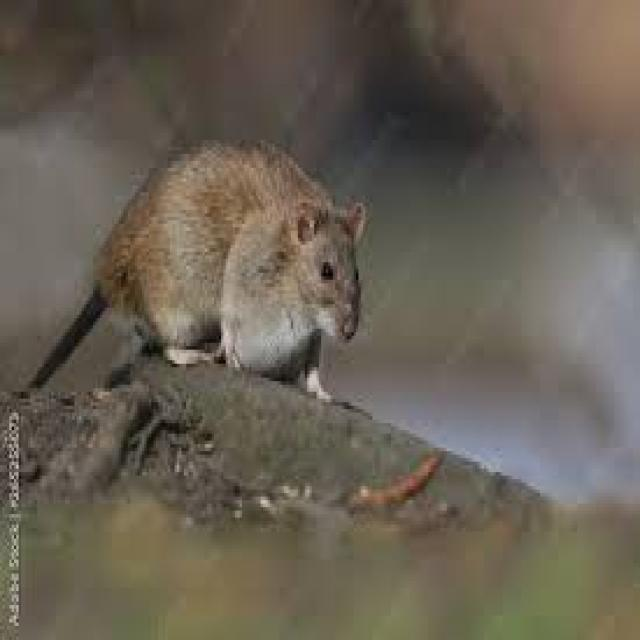Rat: (61, 96, 404, 411)
